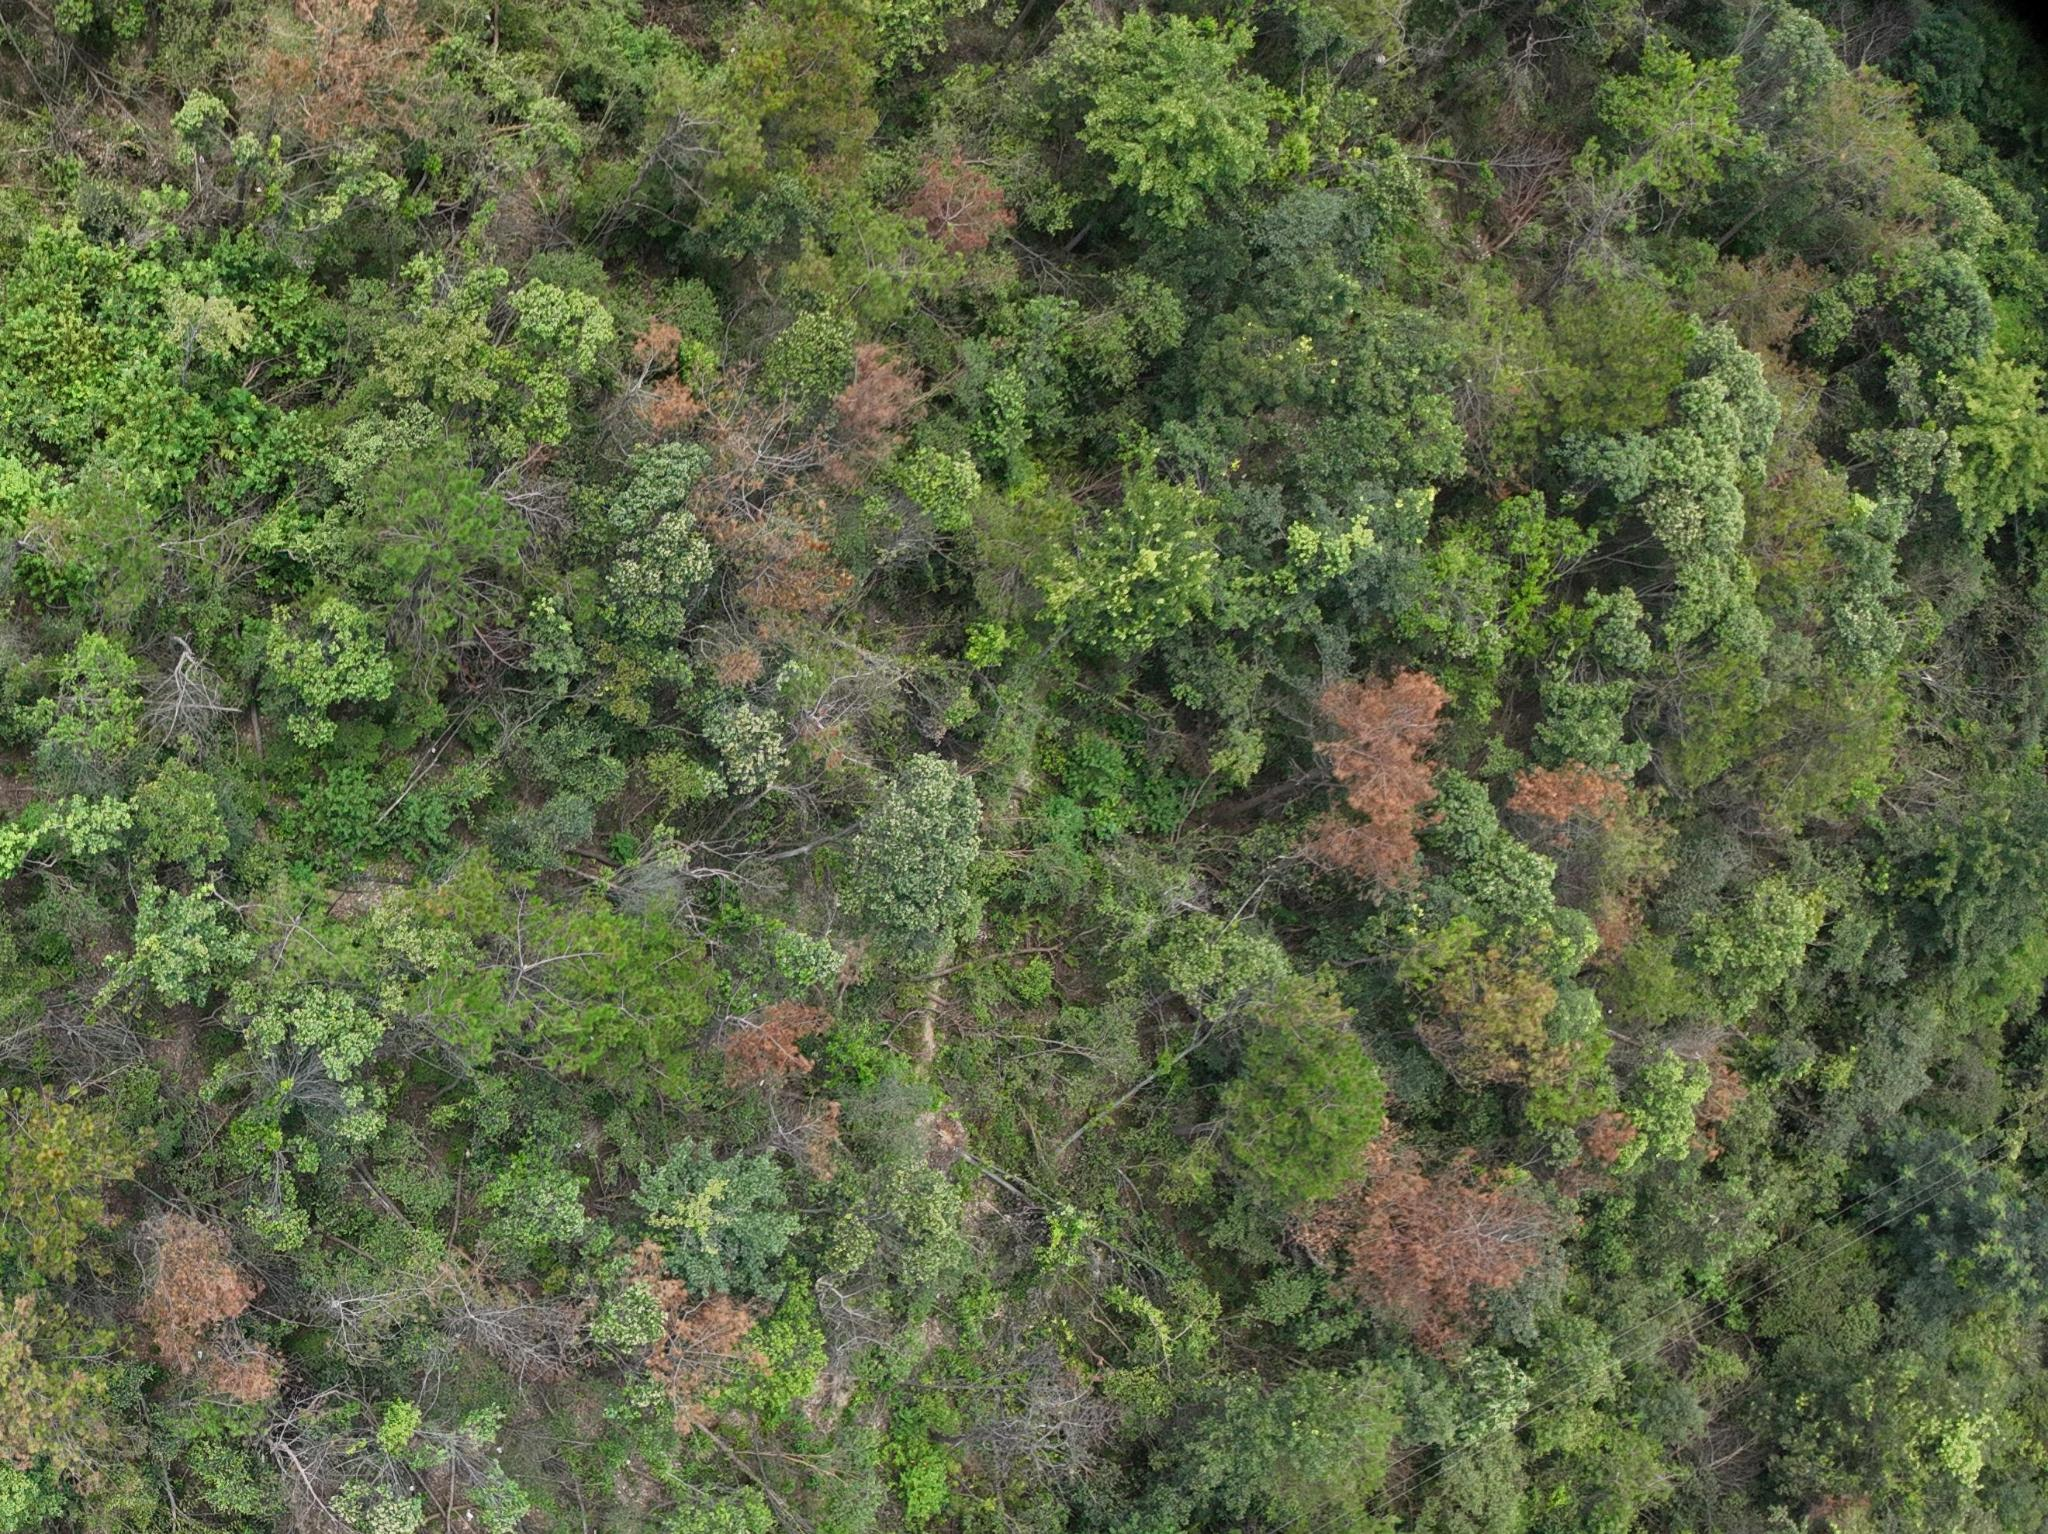dead: (329, 1286, 583, 1394), (962, 1345, 1118, 1495), (606, 835, 799, 925), (255, 1418, 374, 1528), (0, 1004, 148, 1088), (793, 654, 928, 740), (711, 401, 817, 493), (498, 456, 582, 549), (150, 649, 227, 732)
heavy: (1292, 1138, 1550, 1349), (251, 2, 445, 143), (1300, 682, 1429, 883), (140, 1226, 280, 1402), (620, 1249, 759, 1424), (712, 508, 856, 628), (899, 161, 1020, 261), (827, 354, 933, 445), (727, 1002, 835, 1083), (1515, 764, 1637, 823), (636, 334, 691, 430), (1700, 1065, 1750, 1125), (1586, 1117, 1637, 1163), (709, 654, 764, 694)
light: (1415, 970, 1565, 1101)
